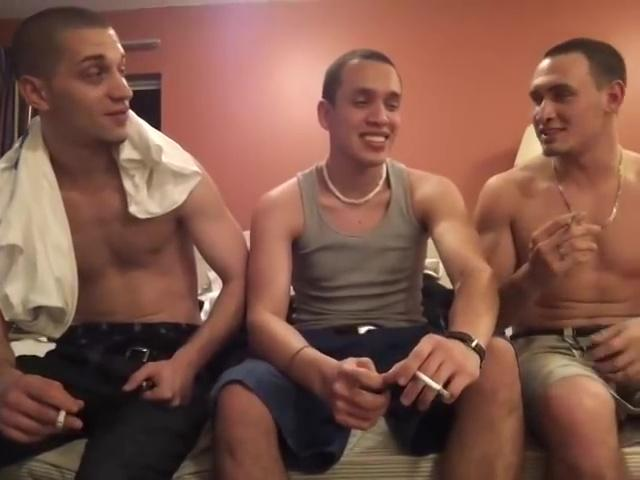cigarette: (416, 368, 456, 403), (55, 404, 70, 435)
